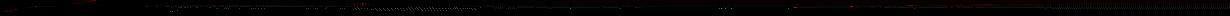Blue cone: (88, 0, 96, 2), (906, 5, 919, 6), (847, 6, 855, 7), (792, 7, 799, 8), (33, 6, 38, 7)
Yellow cone: (353, 3, 370, 6)
